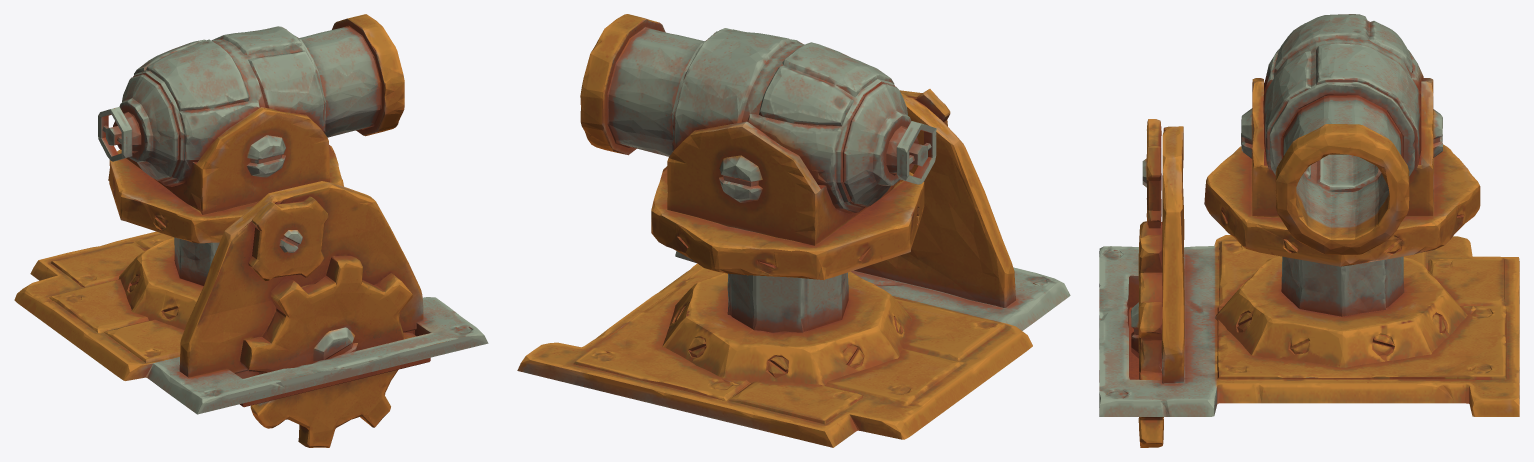
File: shoot.fbx
3 views of the same model, side by side, from view 1: azimuth 30°, elevation 25°; view 2: azimuth 150°, elevation 25°; view 3: azimuth 270°, elevation 25° (orthographic). The views are drawn at different scales.
Parts seen in each view (by area): view 1: polySurface13, polySurface11, polySurface8, polySurface10, polySurface12, polySurface6, polySurface15, polySurface9, polySurface14, polySurface7, polySurface2; view 2: polySurface11, polySurface13, polySurface6, polySurface8, polySurface15, polySurface12, polySurface3, polySurface7, polySurface9; view 3: polySurface11, polySurface13, polySurface6, polySurface15, polySurface8, polySurface12, polySurface10, polySurface9, polySurface14, polySurface3.
Part boxes in pixels (box(x1,y1,x2,y2)): polySurface13: box(113, 14, 404, 186); polySurface11: box(14, 231, 488, 414); polySurface8: box(179, 181, 423, 377); polySurface10: box(240, 255, 416, 447); polySurface12: box(126, 107, 329, 214); polySurface6: box(118, 237, 219, 329); polySurface15: box(108, 145, 343, 243); polySurface9: box(248, 196, 328, 281); polySurface14: box(246, 135, 285, 177); polySurface7: box(98, 107, 132, 161); polySurface2: box(313, 327, 358, 361); polySurface11: box(517, 251, 1070, 447); polySurface13: box(580, 14, 918, 213); polySurface6: box(662, 271, 911, 385); polySurface8: box(854, 93, 1015, 307); polySurface15: box(651, 166, 924, 279); polySurface12: box(667, 121, 903, 245); polySurface3: box(719, 155, 762, 202); polySurface7: box(896, 121, 936, 184); polySurface9: box(899, 89, 950, 126); polySurface11: box(1099, 235, 1519, 416); polySurface13: box(1263, 14, 1423, 254); polySurface6: box(1215, 256, 1467, 367); polySurface15: box(1204, 144, 1480, 266); polySurface8: box(1161, 126, 1184, 383); polySurface12: box(1252, 78, 1433, 217); polySurface10: box(1138, 221, 1163, 447); polySurface9: box(1146, 119, 1161, 228); polySurface14: box(1241, 108, 1252, 158); polySurface3: box(1433, 109, 1442, 157).
Size of the model in its own units: 19.21 by 20.16 by 19.8.
